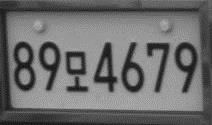4: (93, 41, 118, 92)
6: (120, 40, 145, 92)
7: (145, 41, 170, 93)
8: (12, 41, 36, 91)
9: (172, 40, 198, 93), (38, 41, 61, 90)
모: (65, 50, 89, 93)
